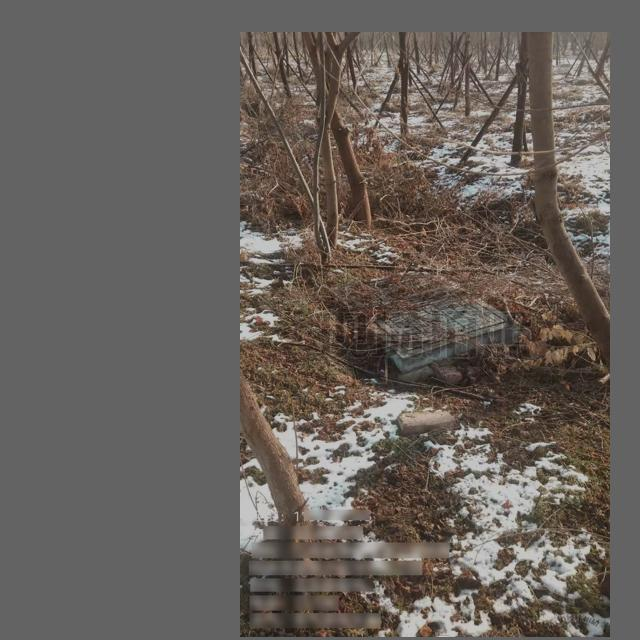circle: (330, 265, 522, 377)
